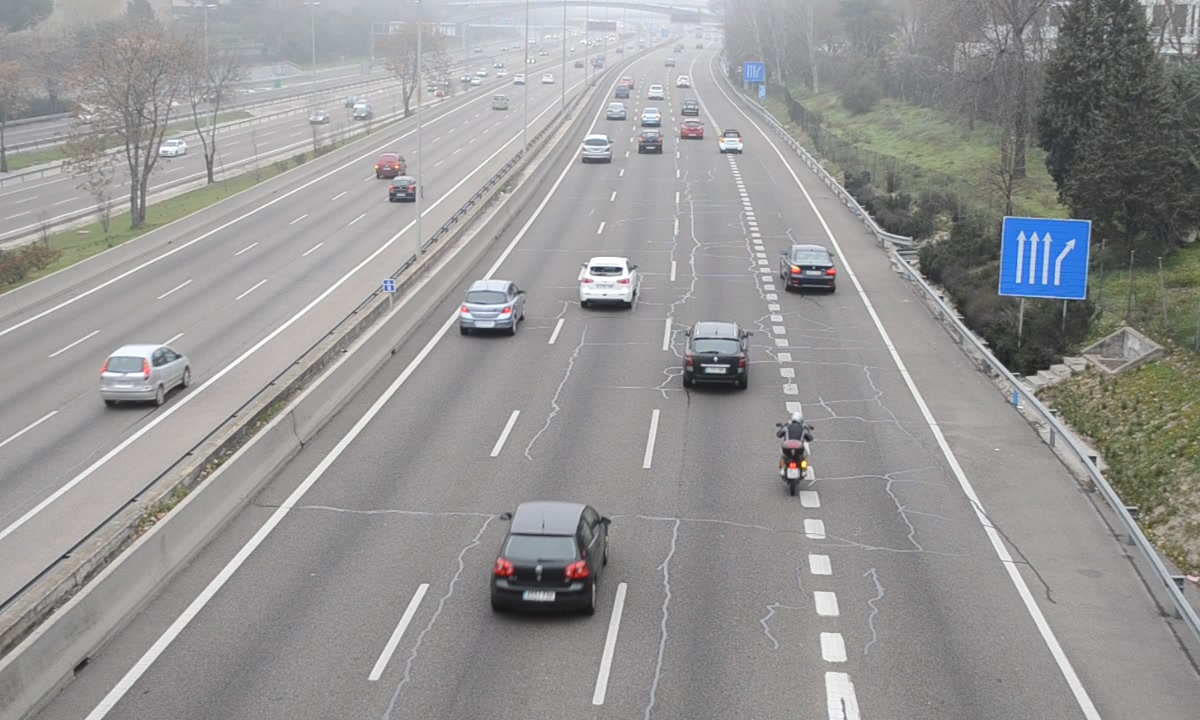car: (490, 503, 607, 611), (682, 322, 748, 387), (459, 279, 523, 333), (578, 257, 640, 305), (782, 245, 838, 290), (581, 133, 613, 164), (719, 128, 743, 155), (639, 129, 663, 155)
motorcycle: (775, 413, 815, 496)
